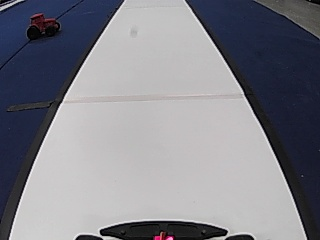tractor: (24, 12, 60, 39)
